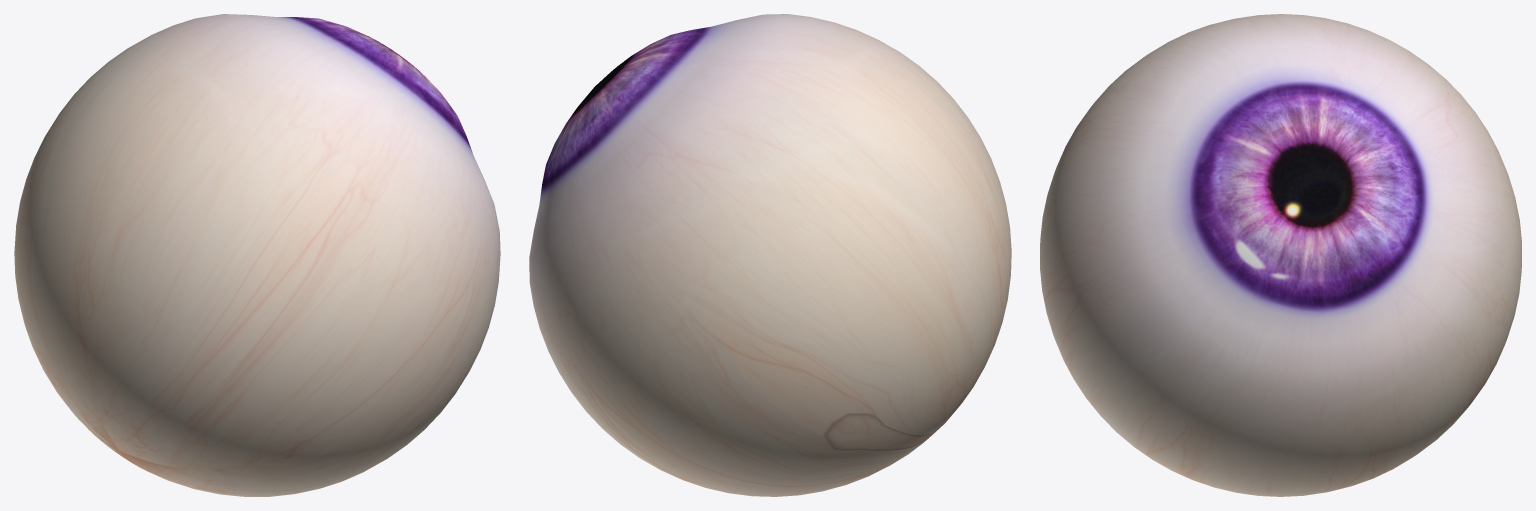
File: eye.glb
The picture shows the model from 3 angles, left to right: view 1: azimuth 30°, elevation 25°; view 2: azimuth 150°, elevation 25°; view 3: azimuth 270°, elevation 25°; orthographic projection.
Parts seen in each view (by area): view 1: Sphere; view 2: Sphere; view 3: Sphere.
Boxes of the visible parts, box(x1,y1,x2,y2) form: Sphere: box(14, 14, 500, 496); Sphere: box(529, 14, 1011, 496); Sphere: box(1040, 14, 1521, 496).
Size of the model in its own units: 1.98 by 1.98 by 1.98.
1 material, 1 textured.
